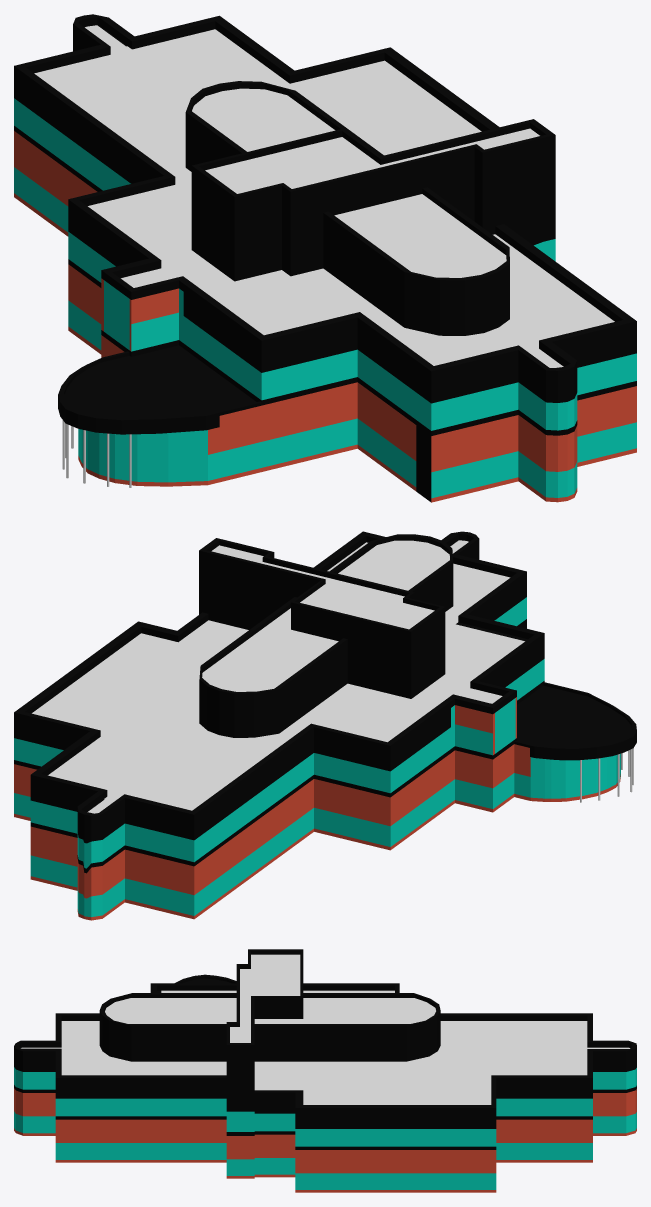
File: WelcomeCenter.fbx
The picture shows the model from 3 angles, top to bottom: view 1: azimuth 30°, elevation 25°; view 2: azimuth 150°, elevation 25°; view 3: azimuth 270°, elevation 25°; orthographic projection. The views are drawn at different scales.
Parts seen in each view (by area): view 1: Cube; view 2: Cube; view 3: Cube.
Part boxes in pixels (box(x1,y1,x2,y2)): Cube: box(14, 14, 636, 502); Cube: box(14, 531, 636, 920); Cube: box(14, 949, 636, 1192).
Bounding box in the file's own units: 313 × 113 × 476.
